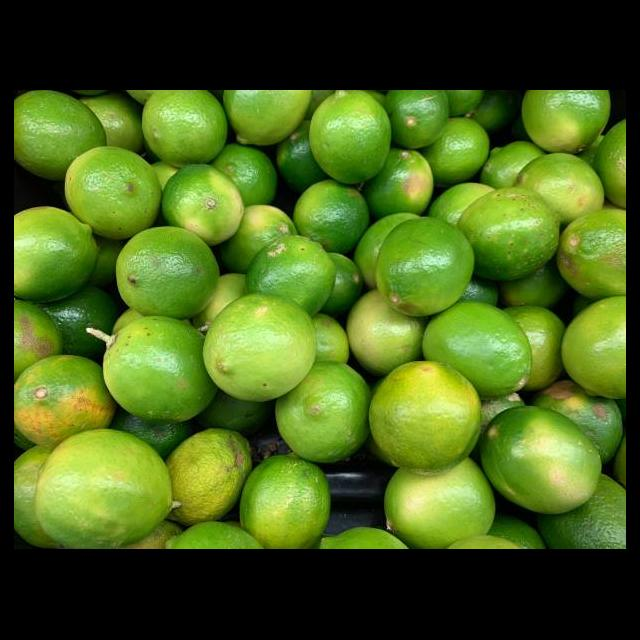lime: (368, 362, 480, 474), (203, 294, 317, 404), (14, 356, 121, 450)
